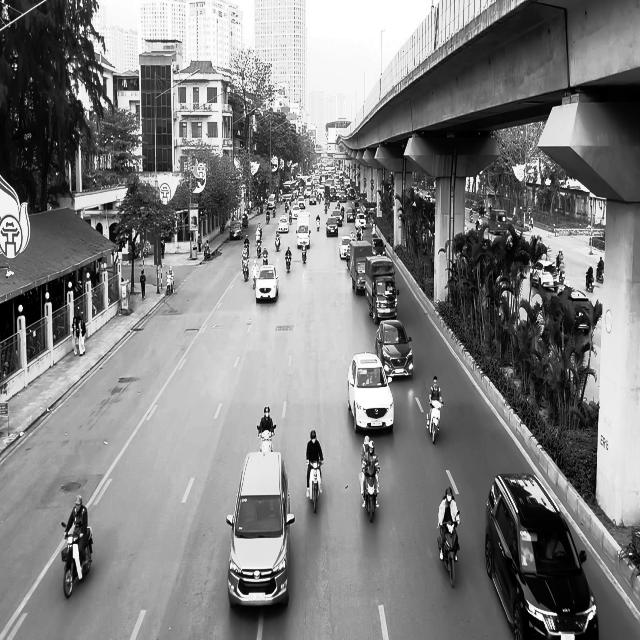bus: (488, 208, 508, 234)
car: (484, 472, 599, 640), (226, 451, 294, 608), (347, 352, 394, 434), (375, 319, 413, 381), (255, 264, 279, 302), (229, 220, 242, 240)
motorbike: (61, 521, 92, 598), (437, 519, 459, 587), (360, 464, 380, 522), (306, 458, 323, 513), (426, 399, 444, 444), (256, 423, 276, 452), (586, 273, 594, 292), (285, 251, 292, 272), (596, 265, 604, 282), (301, 241, 307, 263), (274, 235, 280, 251)
